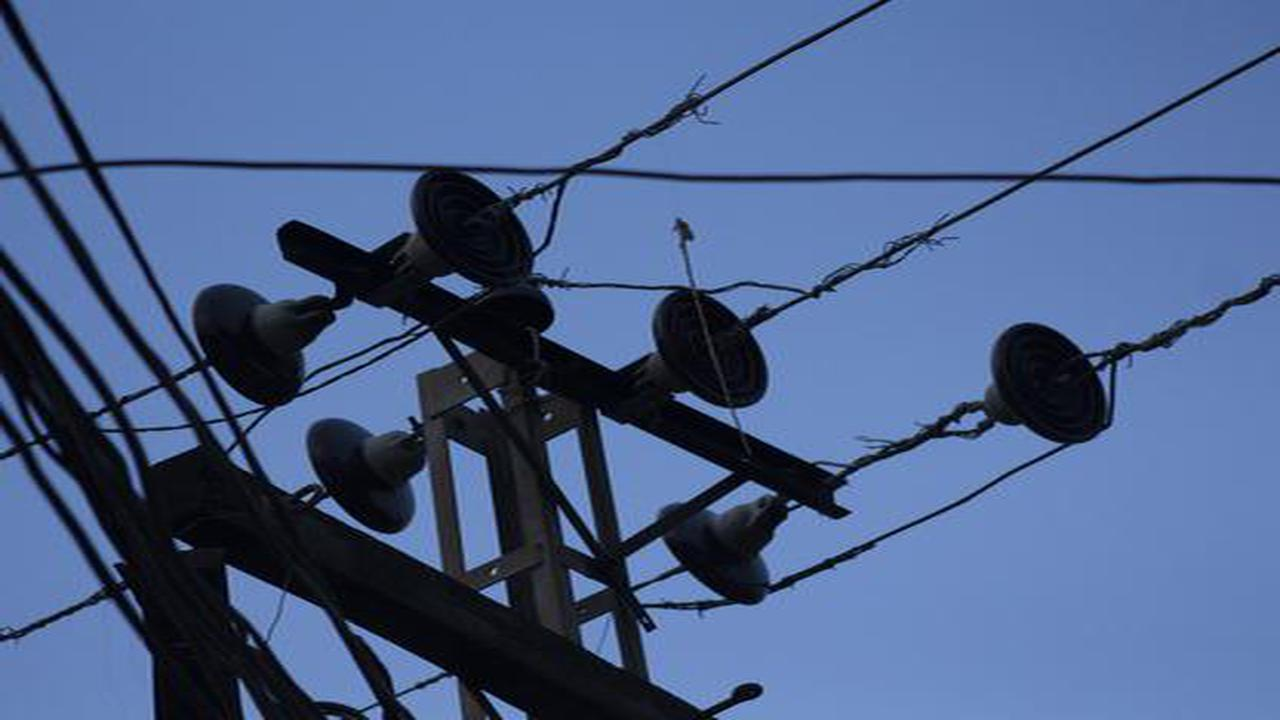insulator_disc: (189, 276, 358, 412), (652, 483, 813, 608), (972, 317, 1121, 445), (403, 159, 544, 292), (299, 402, 441, 534), (652, 279, 779, 414)
